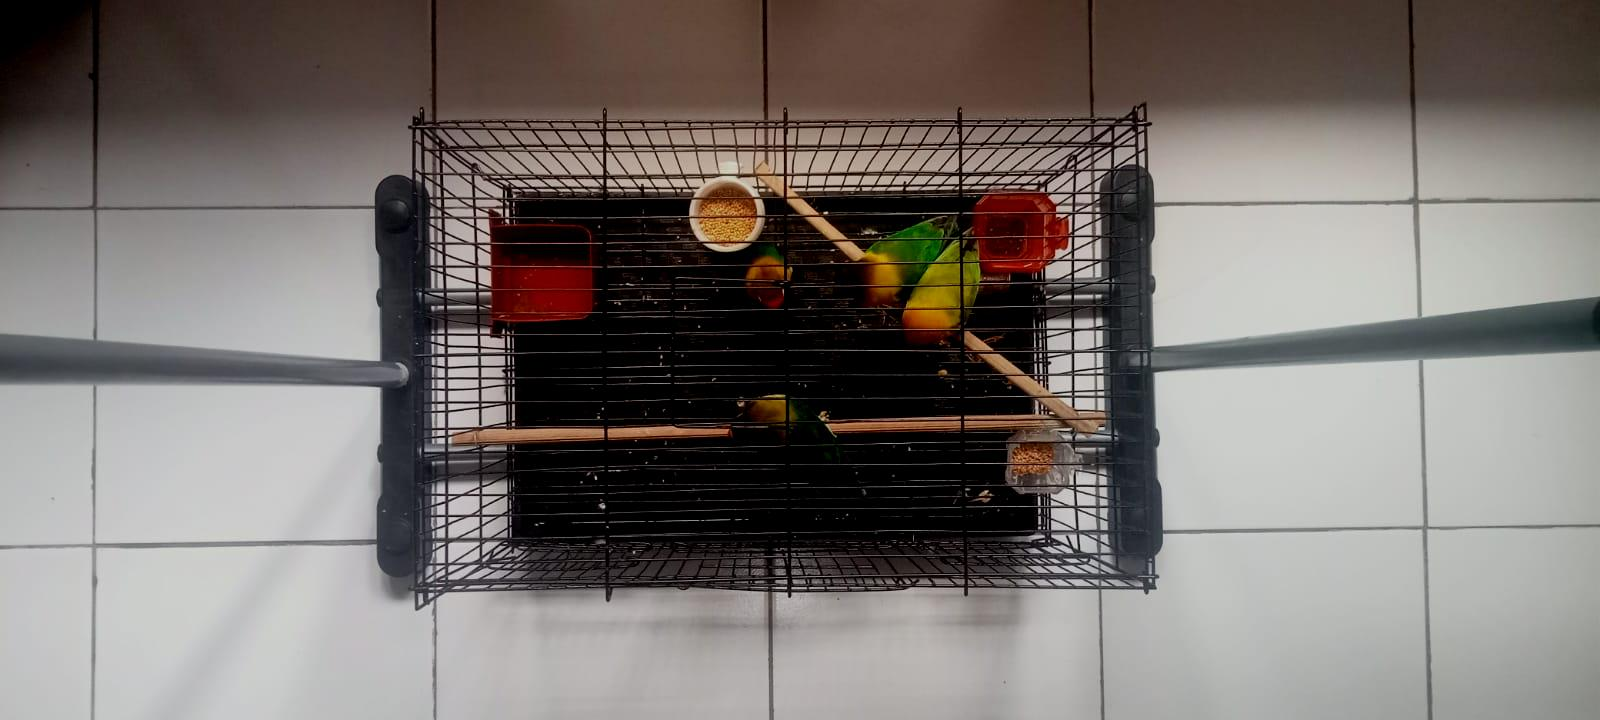LoveBird: (731, 395, 870, 496), (834, 215, 960, 306), (900, 237, 982, 350), (744, 242, 793, 310)
